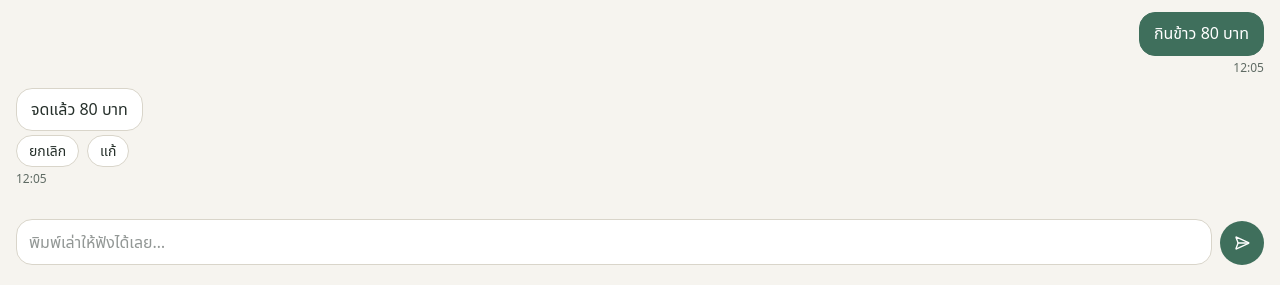
Test: แก้ keeps an existing draft after the previous text
The width and height of the screenshot is (1280, 285).
Type "ร่าง" into the text box labelled "พิมพ์เล่าให้ฟังได้เลย…" at (614, 242), box [16,219,1212,265]
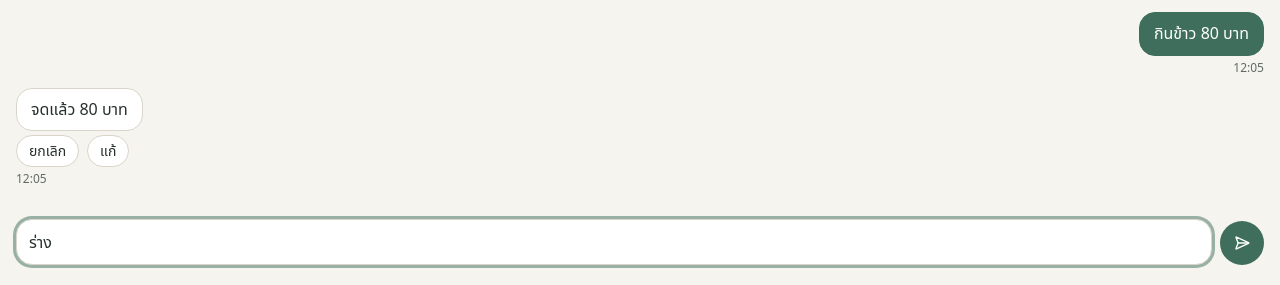
Click the button "แก้" at (108, 151), box [87,135,130,167]
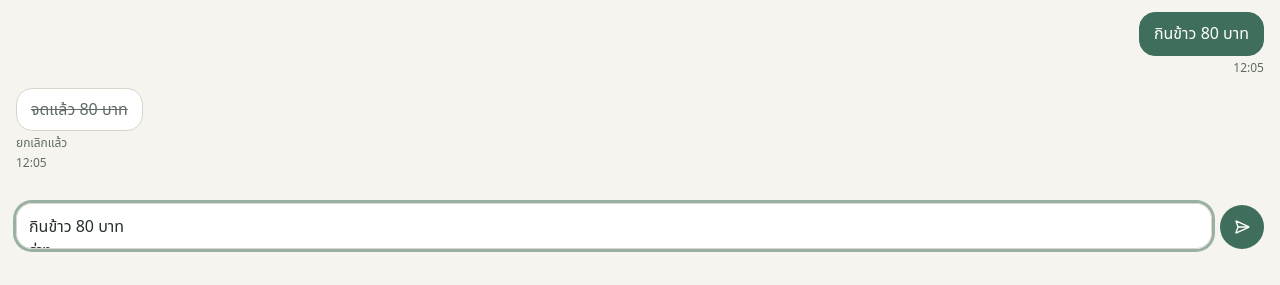
expect the text "ยกเลิกแล้ว" is shown: met, box [16,135,67,151]
